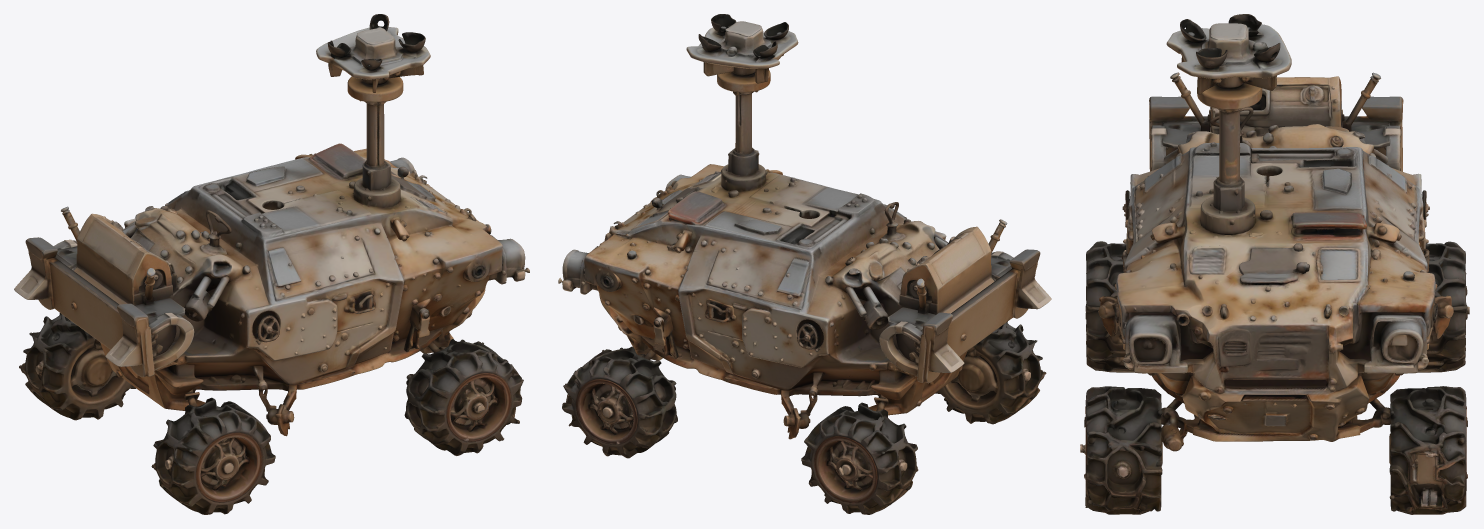
File: mars_rover.glb
The picture shows the model from 3 angles, left to right: view 1: azimuth 30°, elevation 25°; view 2: azimuth 150°, elevation 25°; view 3: azimuth 270°, elevation 25°; orthographic projection. The views are drawn at different scales.
Parts seen in each view (by area): view 1: tripo_node_1bc045e0-96f0-403e-a85b-f621af62815a; view 2: tripo_node_1bc045e0-96f0-403e-a85b-f621af62815a; view 3: tripo_node_1bc045e0-96f0-403e-a85b-f621af62815a.
Boxes of the visible parts, <box> form: tripo_node_1bc045e0-96f0-403e-a85b-f621af62815a: <box>14,14,529,514</box>; tripo_node_1bc045e0-96f0-403e-a85b-f621af62815a: <box>558,14,1051,514</box>; tripo_node_1bc045e0-96f0-403e-a85b-f621af62815a: <box>1080,14,1469,514</box>.
Size of the model in its own units: 0.9797 by 0.9153 by 0.7092.
Materials: 1 (1 with a texture image).
